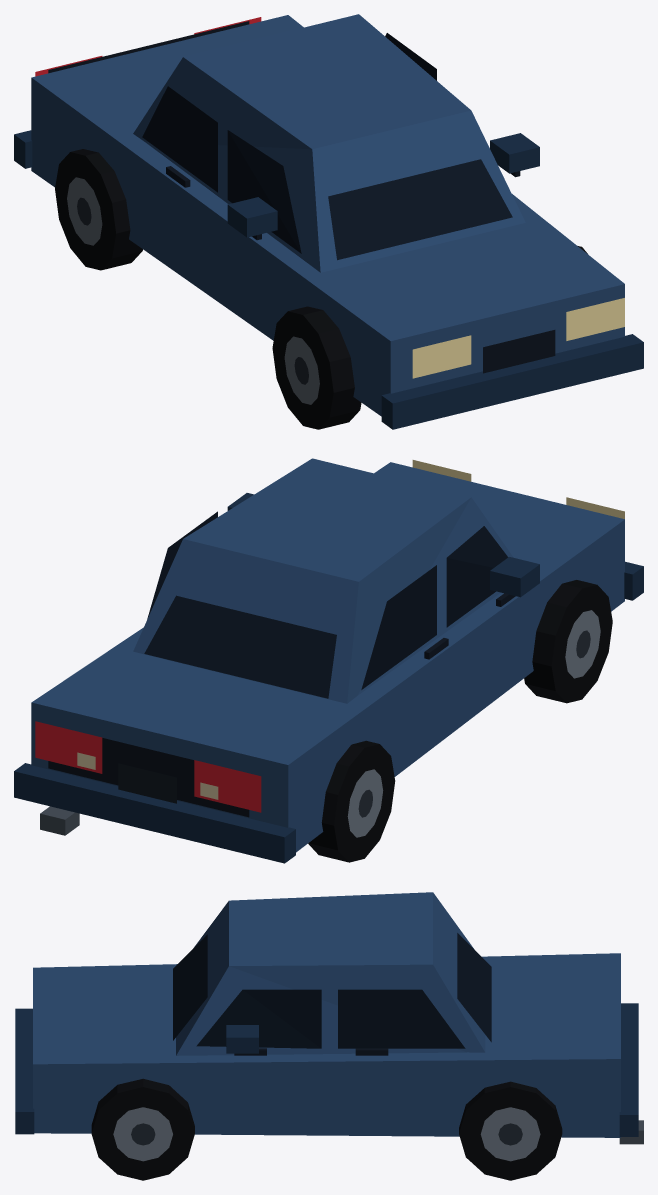
Rendered from traffic-car-generic-low-poly.obj.
3 views of the same model, one above another, from view 1: azimuth 30°, elevation 25°; view 2: azimuth 150°, elevation 25°; view 3: azimuth 270°, elevation 25° (orthographic). The views are drawn at different scales.
Parts seen in each view (by area): view 1: body-shell, cabin-shell, front-windshield, front-bumper, rear-side-window--1, front-side-window--1, rear-wheel--1-cap-a, front-wheel--1-cap-a, front-wheel--1-tread, rear-wheel--1-tread, front-grille, left-headlight (+7 smaller); view 2: body-shell, cabin-shell, rear-window, rear-bumper, rear-side-window--1, rear-trim, front-side-window--1, front-wheel--1-cap-a, rear-wheel--1-cap-a, front-wheel--1-tread, left-tail, right-tail (+8 smaller); view 3: body-shell, cabin-shell, rear-side-window-1, front-side-window-1, front-wheel-1-cap-b, rear-wheel-1-cap-b, rear-window, rear-bumper, front-windshield, front-bumper, rear-wheel-1-hub, front-wheel-1-hub (+5 smaller).
Part boxes in pixels (x1,y1,x2,y2): body-shell: [31, 15, 624, 416]; cabin-shell: [133, 14, 525, 272]; front-windshield: [328, 159, 512, 260]; front-bumper: [381, 334, 643, 429]; rear-side-window--1: [142, 86, 217, 192]; front-side-window--1: [227, 130, 301, 253]; rear-wheel--1-cap-a: [55, 152, 115, 270]; front-wheel--1-cap-a: [272, 311, 333, 429]; front-wheel--1-tread: [288, 306, 361, 429]; rear-wheel--1-tread: [71, 149, 142, 270]; front-grille: [483, 330, 555, 373]; left-headlight: [412, 335, 471, 378]; body-shell: [31, 462, 624, 852]; cabin-shell: [133, 458, 513, 703]; rear-window: [144, 595, 336, 698]; rear-bumper: [14, 763, 295, 863]; rear-side-window--1: [361, 565, 436, 689]; rear-trim: [48, 738, 249, 817]; front-side-window--1: [446, 526, 508, 627]; front-wheel--1-cap-a: [551, 585, 612, 703]; rear-wheel--1-cap-a: [334, 744, 395, 862]; front-wheel--1-tread: [524, 580, 597, 703]; left-tail: [194, 760, 261, 812]; right-tail: [35, 721, 102, 773]; body-shell: [33, 953, 620, 1137]; cabin-shell: [176, 892, 485, 1055]; rear-side-window-1: [338, 989, 465, 1048]; front-side-window-1: [196, 989, 321, 1048]; front-wheel-1-cap-b: [91, 1087, 194, 1180]; rear-wheel-1-cap-b: [459, 1087, 562, 1180]; rear-window: [457, 933, 491, 1042]; rear-bumper: [619, 1003, 638, 1136]; front-windshield: [173, 934, 207, 1040]; front-bumper: [15, 1008, 34, 1134]; rear-wheel-1-hub: [480, 1107, 540, 1161]; front-wheel-1-hub: [113, 1107, 172, 1161].
Size of the model in its own units: 2.1 by 1.58 by 4.63.
